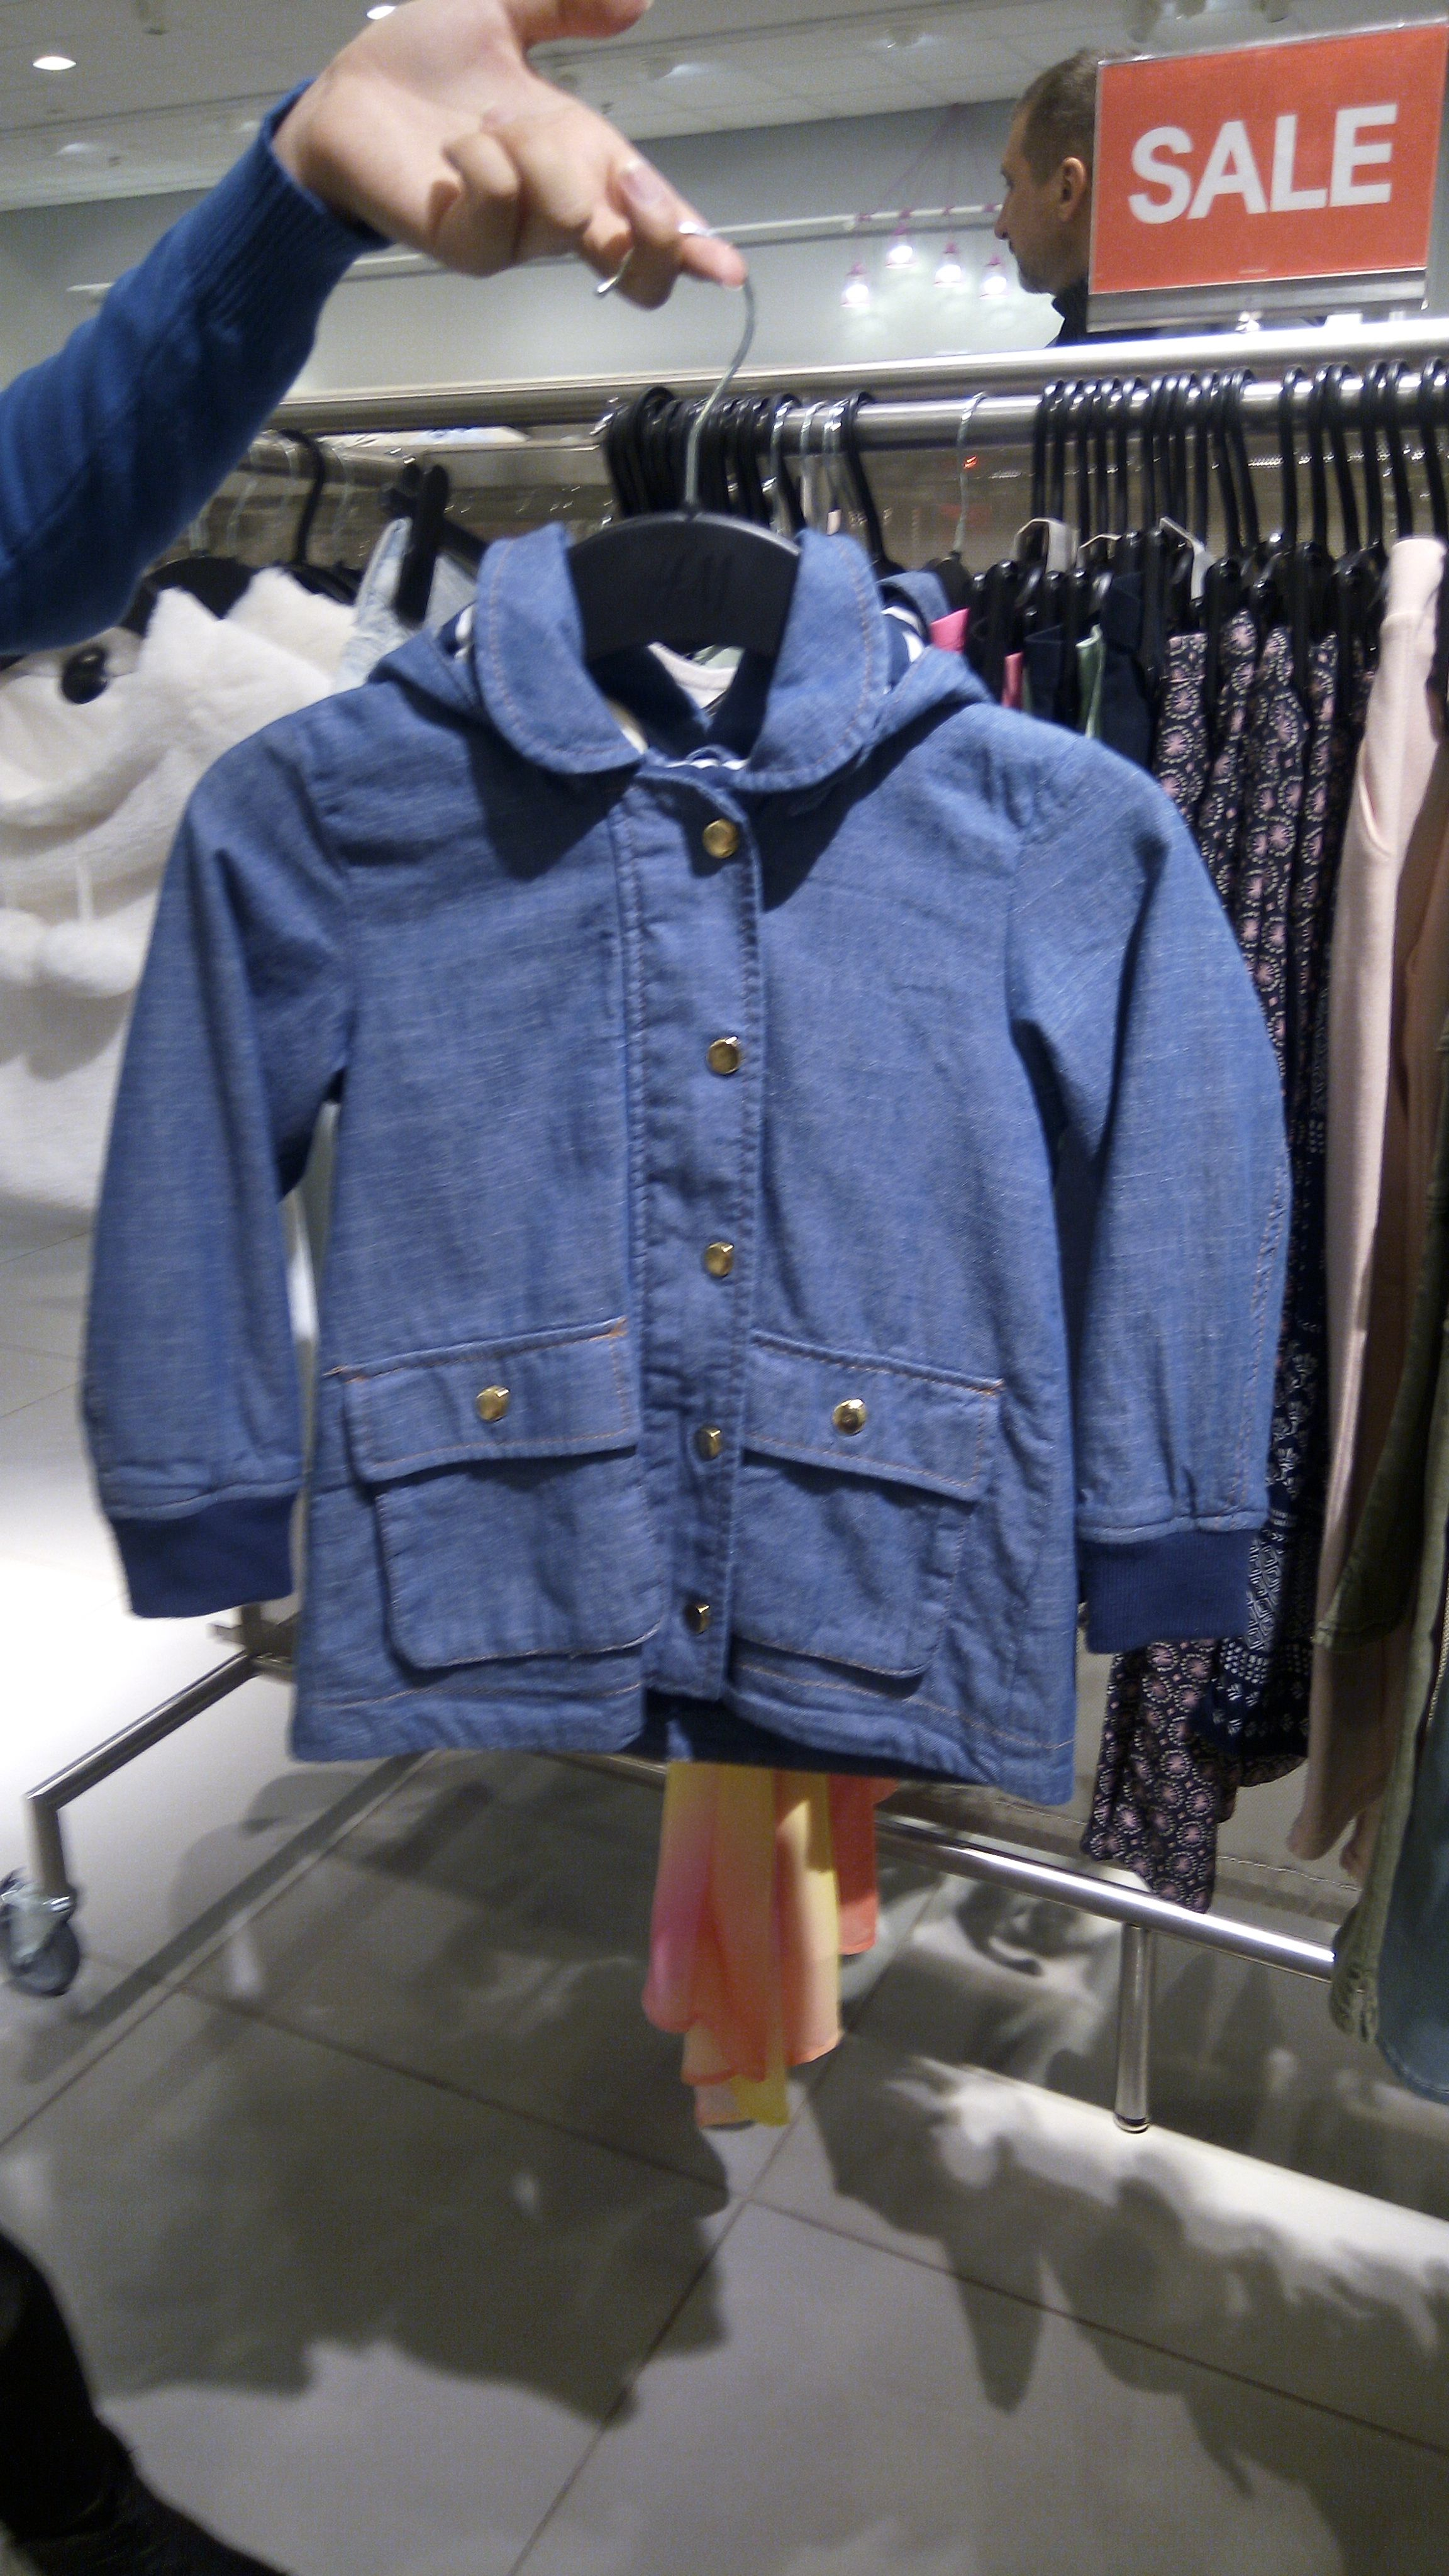clothes: (53, 554, 1272, 1794)
